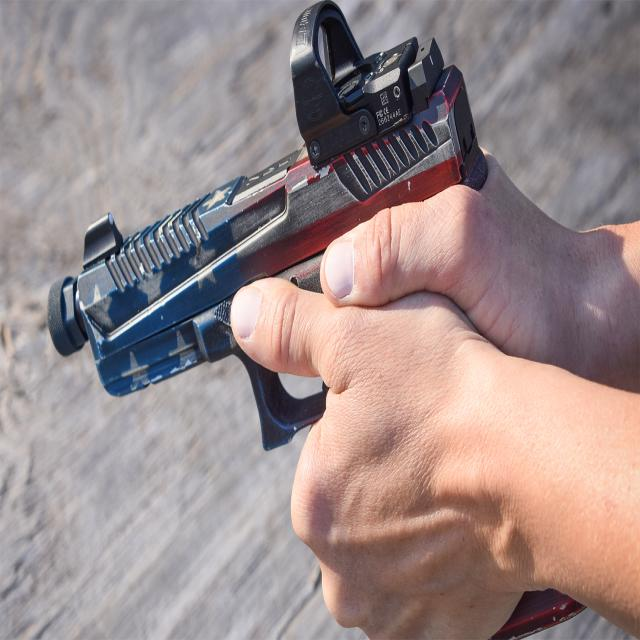HandGun: (47, 1, 491, 454)
